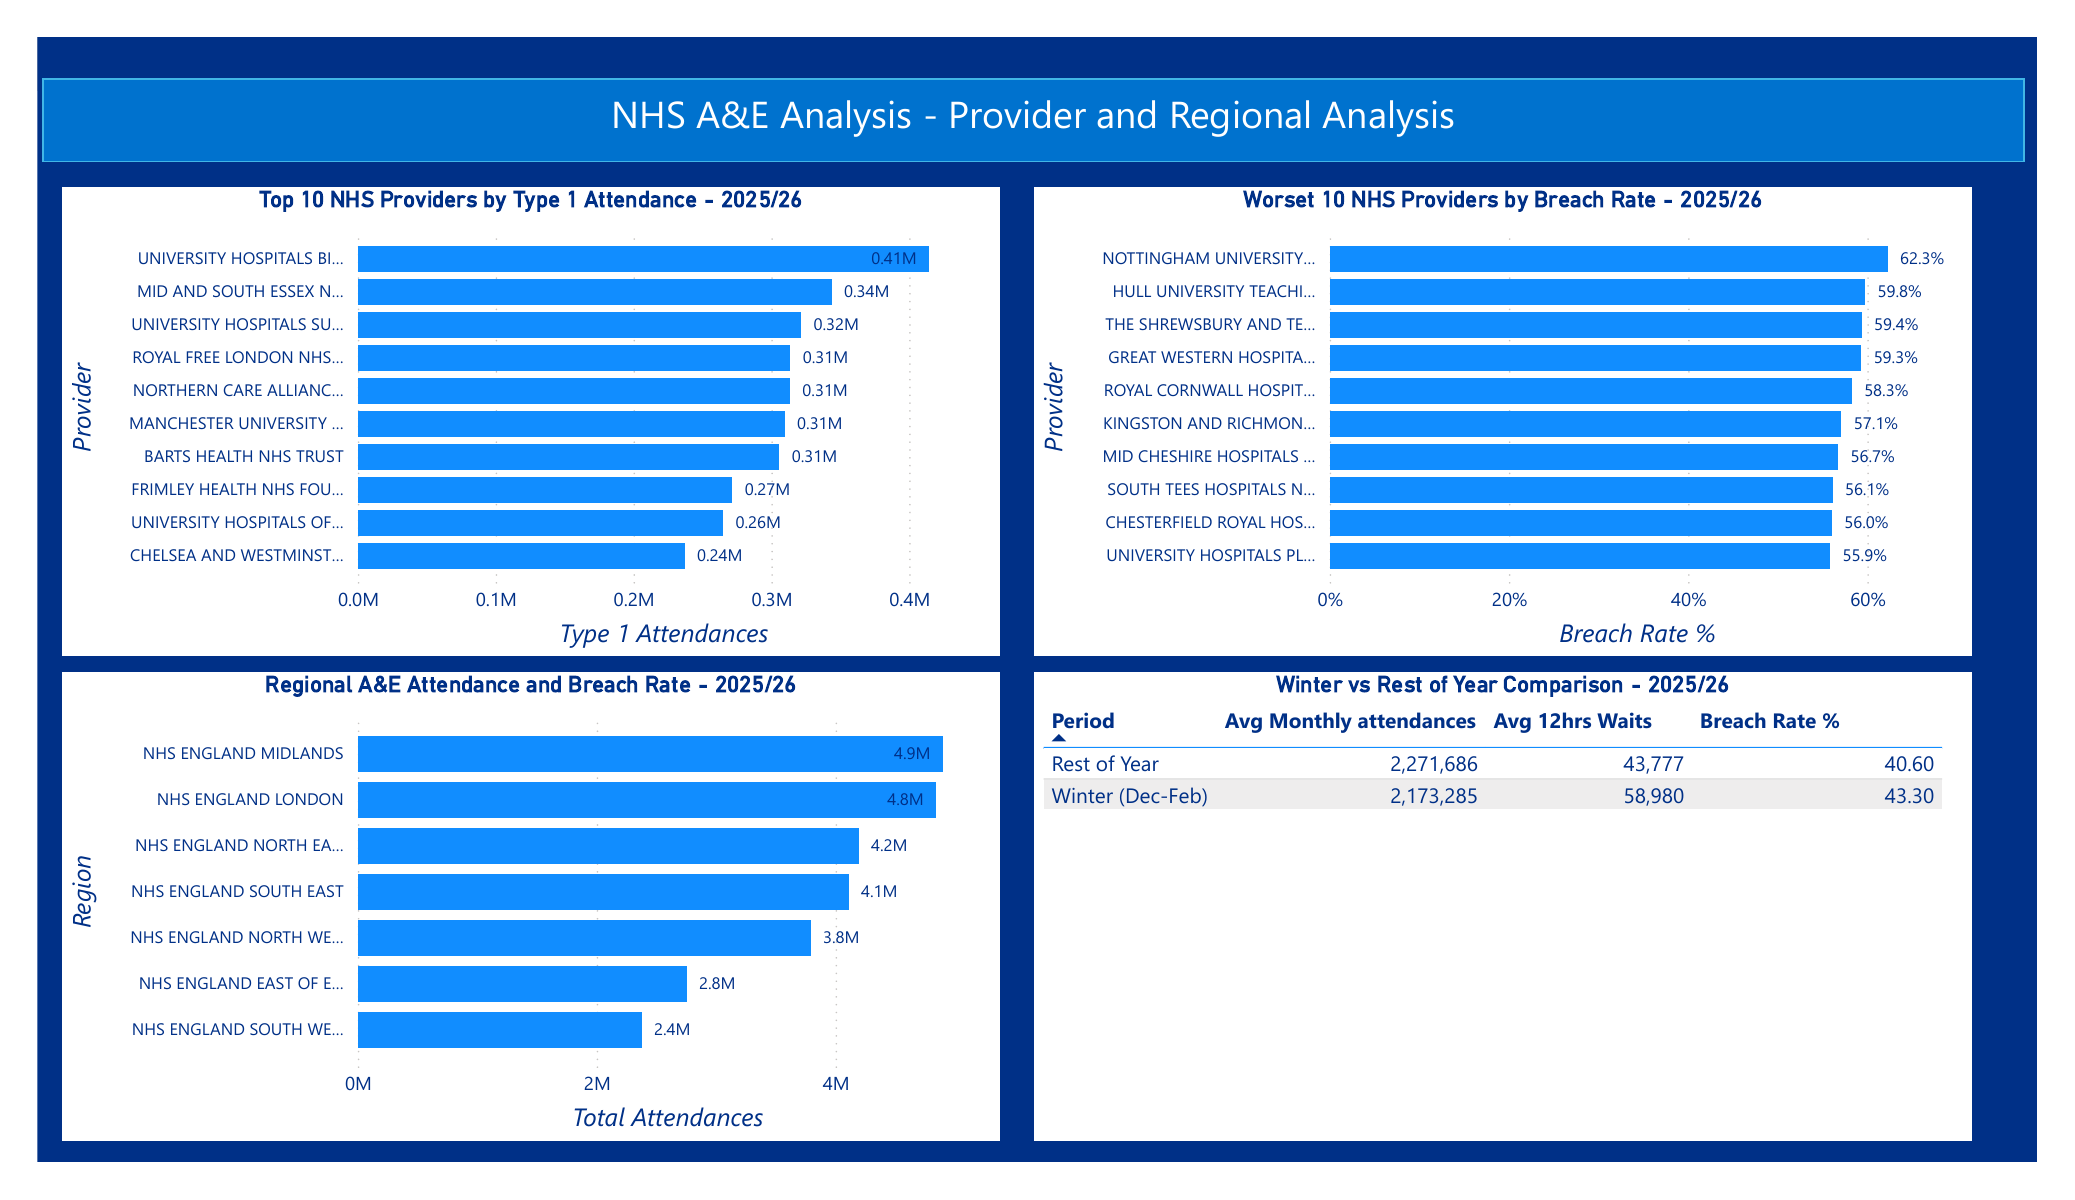

This screenshot's page, from the dashboard's own definition file:
{"tool":"powerbi","page":{"name":"Provider and Regional Analysis","canvas":[1280,720],"ordinal":1},"visuals":[{"type":"textbox","box":[2.9,26.3,1269.3,53.5],"z":4000},{"type":"clusteredBarChart","title":"Top 10 NHS Providers by Type 1 Attendance - 2025/26","fields":{"Category":["provider_summary.provider"],"Y":["Sum(provider_summary.total_type1_attendances)"]},"box":[15.6,95.6,600,300],"z":7001},{"type":"clusteredBarChart","title":"Worset 10 NHS Providers by Breach Rate - 2025/26","fields":{"Category":["provider_summary.provider"],"Y":["provider_summary.Provider Breach Rate"]},"box":[637.8,95.6,600,300],"z":7002},{"type":"clusteredBarChart","title":"Regional A&E Attendance and Breach Rate - 2025/26","fields":{"Category":["regional_summary.region"],"Y":["Sum(regional_summary.total_attendances)"]},"box":[16,406,600,300],"z":7003},{"type":"tableEx","title":"Winter vs Rest of Year Comparison - 2025/26","fields":{"Values":["winter_summary.period","Sum(winter_summary.avg_monthly_attendances)","Sum(winter_summary.avg_monthly_12hr_waits)","Sum(winter_summary.avg_breach_rate_pct)"]},"box":[638,406,600,300],"z":7004}]}

Visuals, with their boxes on the page's 1280x720 design canvas (x1, y1, x2, y2). These are canvas units, not pixel positions in the 2075x1200 screenshot, which may show the page scaled, cropped or inside an application window:
textbox: bbox=[3, 26, 1272, 80]
"Top 10 NHS Providers by Type 1 Attendance - 2025/26" clusteredBarChart: bbox=[16, 96, 616, 396]
"Worset 10 NHS Providers by Breach Rate - 2025/26" clusteredBarChart: bbox=[638, 96, 1238, 396]
"Regional A&E Attendance and Breach Rate - 2025/26" clusteredBarChart: bbox=[16, 406, 616, 706]
"Winter vs Rest of Year Comparison - 2025/26" tableEx: bbox=[638, 406, 1238, 706]
